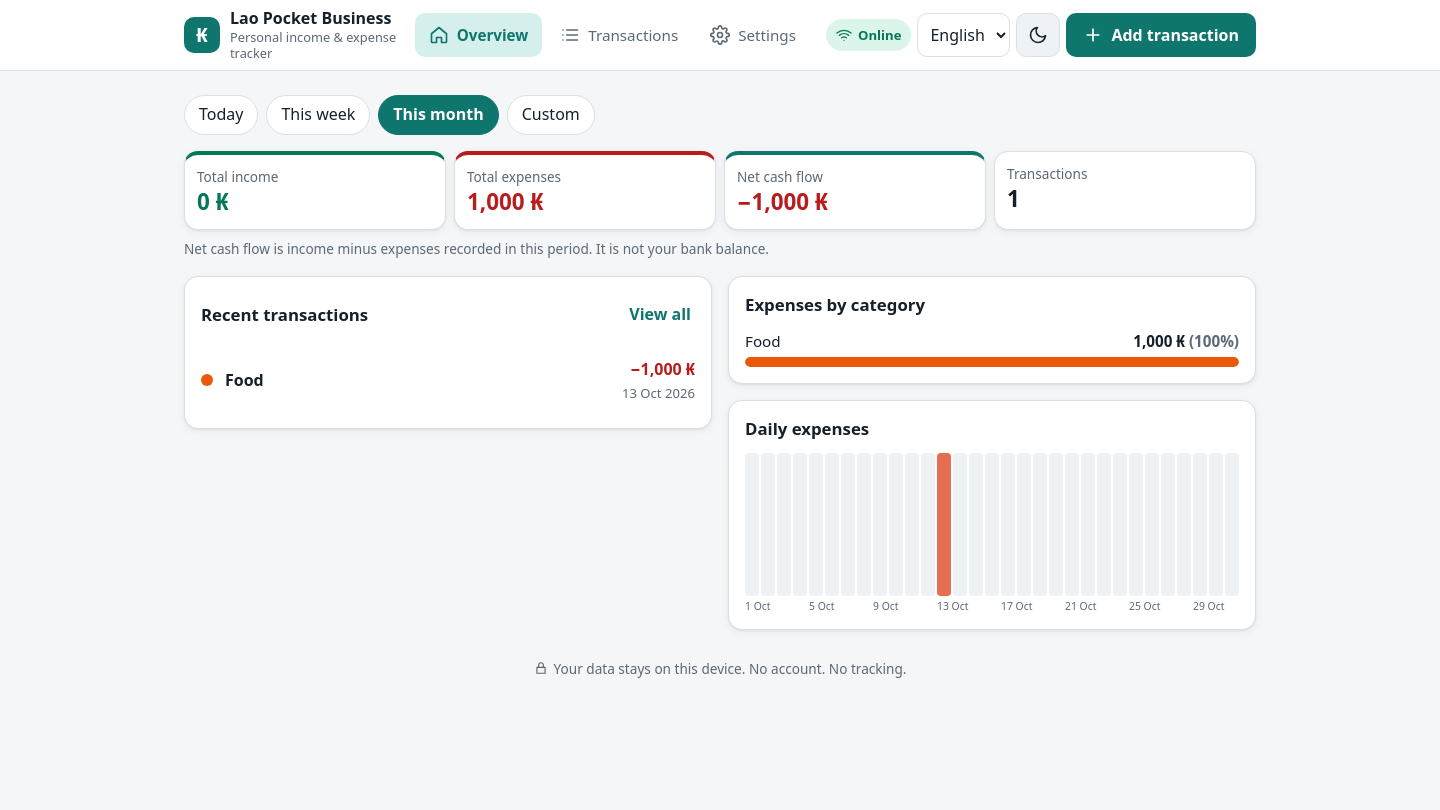
dashboard periods roll over at local midnight while the app is open › a transaction added just after midnight is counted in "Today" (the audit scenario)
The width and height of the screenshot is (1440, 810).
Click the button "Today": [221, 115] box [184, 95, 258, 135]
Wait 420000 ms
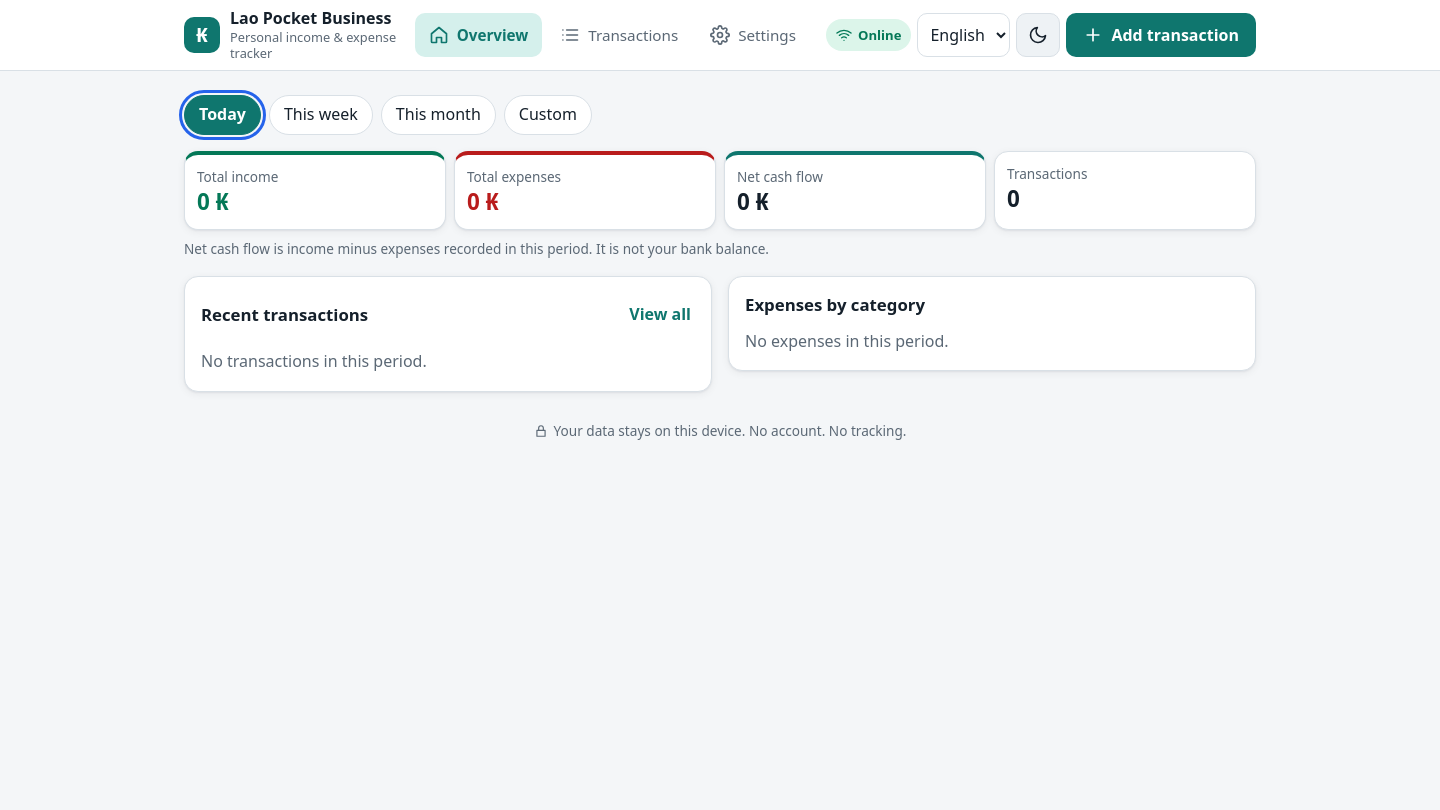
Click the button "Add transaction": [1161, 35] box [1066, 13, 1256, 57]
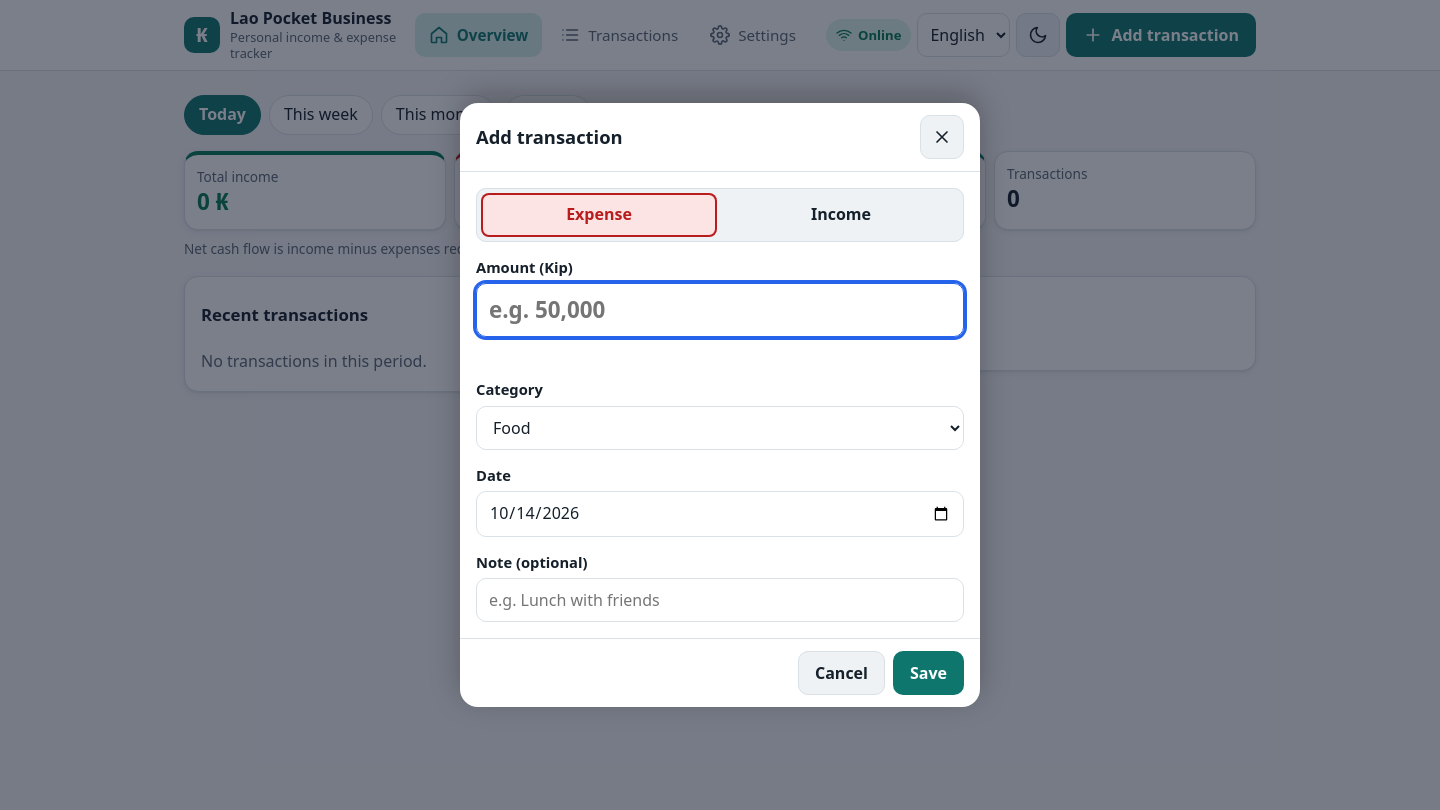
Check: the date field labelled "Date" holds "2026-10-14", box [476, 491, 964, 537]
In the field labelled "Amount (Kip)": [720, 310] box [476, 283, 964, 337], type "5000"
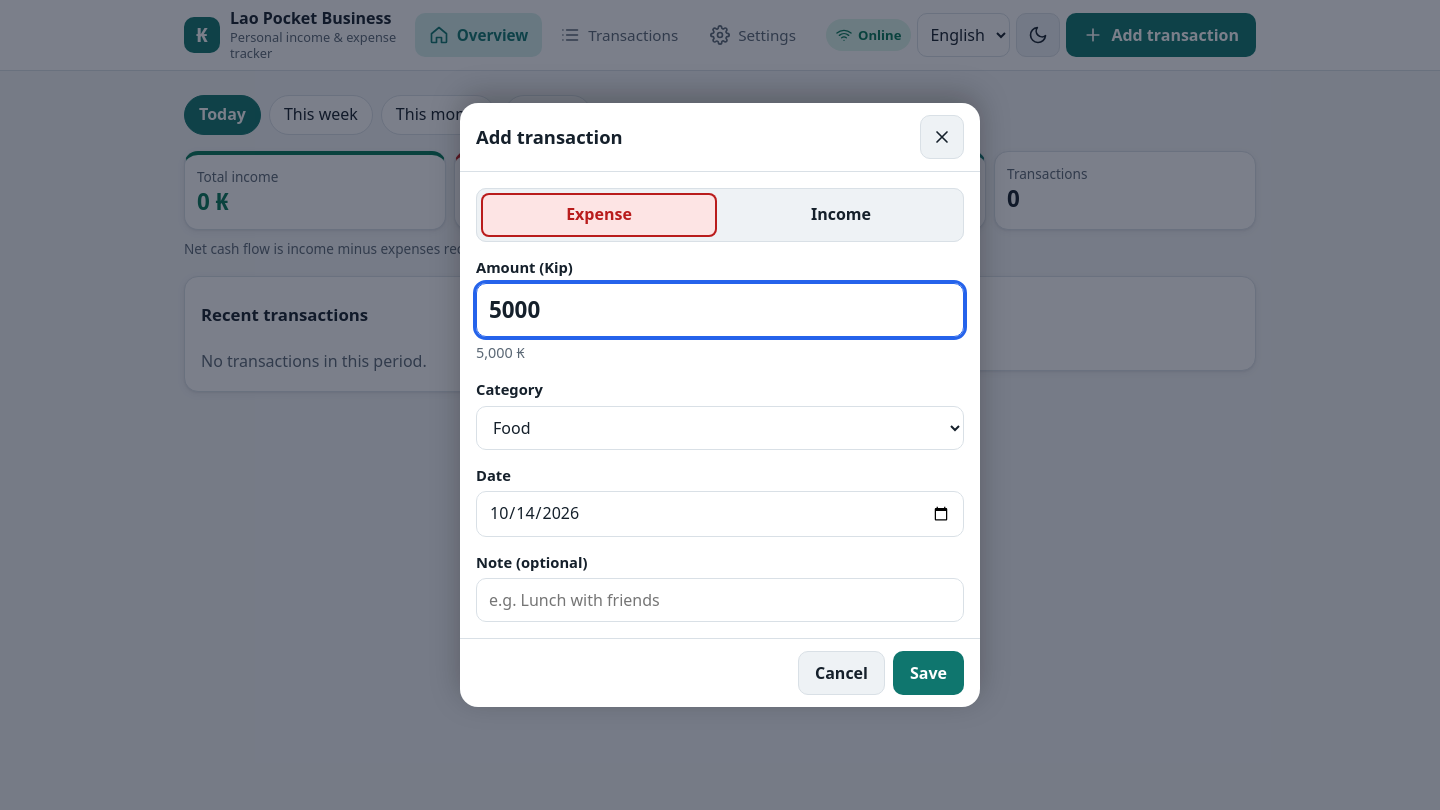
Click the button "Save": [928, 673] box [893, 651, 964, 695]
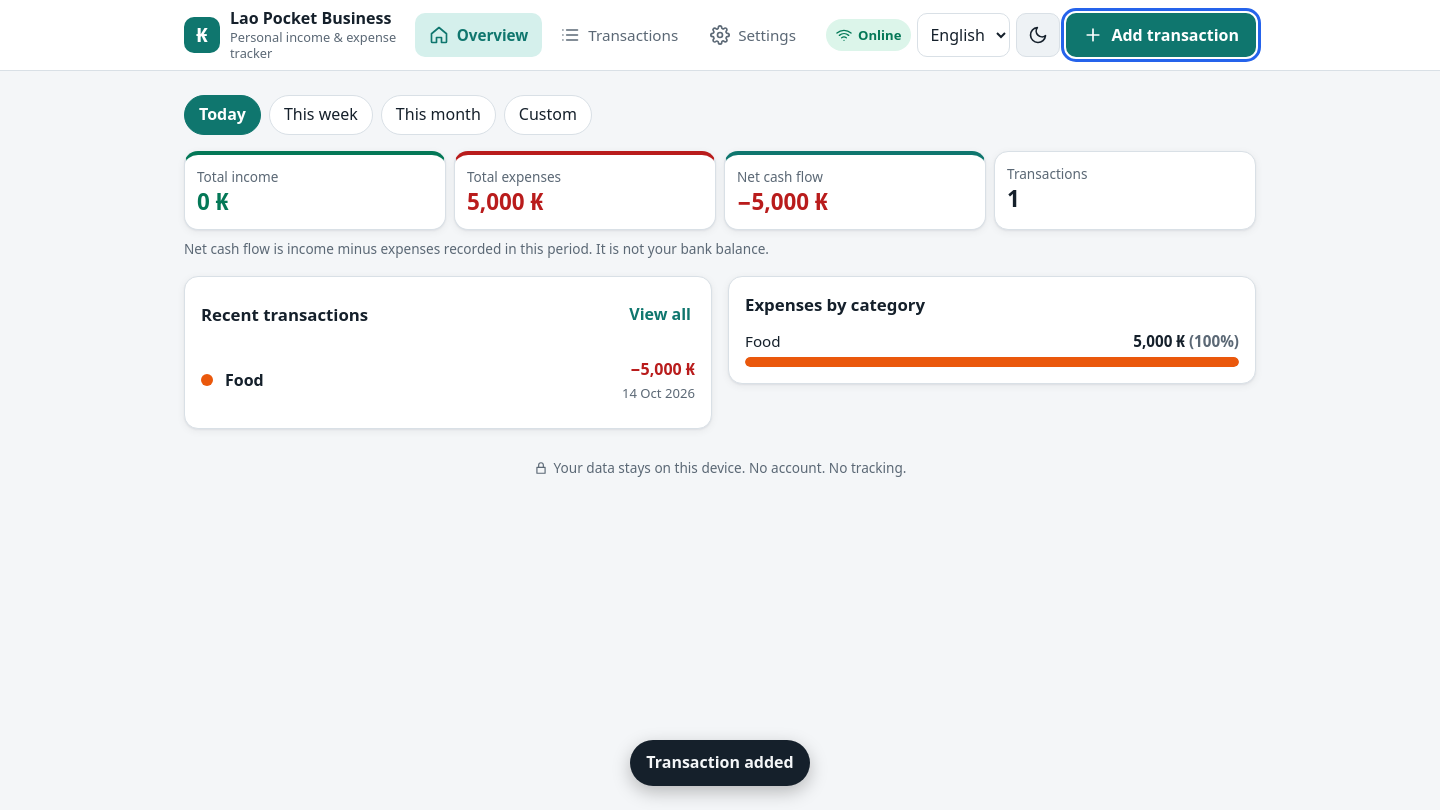
Check: the text with test id "total-expense" reads "5,000 ₭", box [467, 186, 543, 217]
